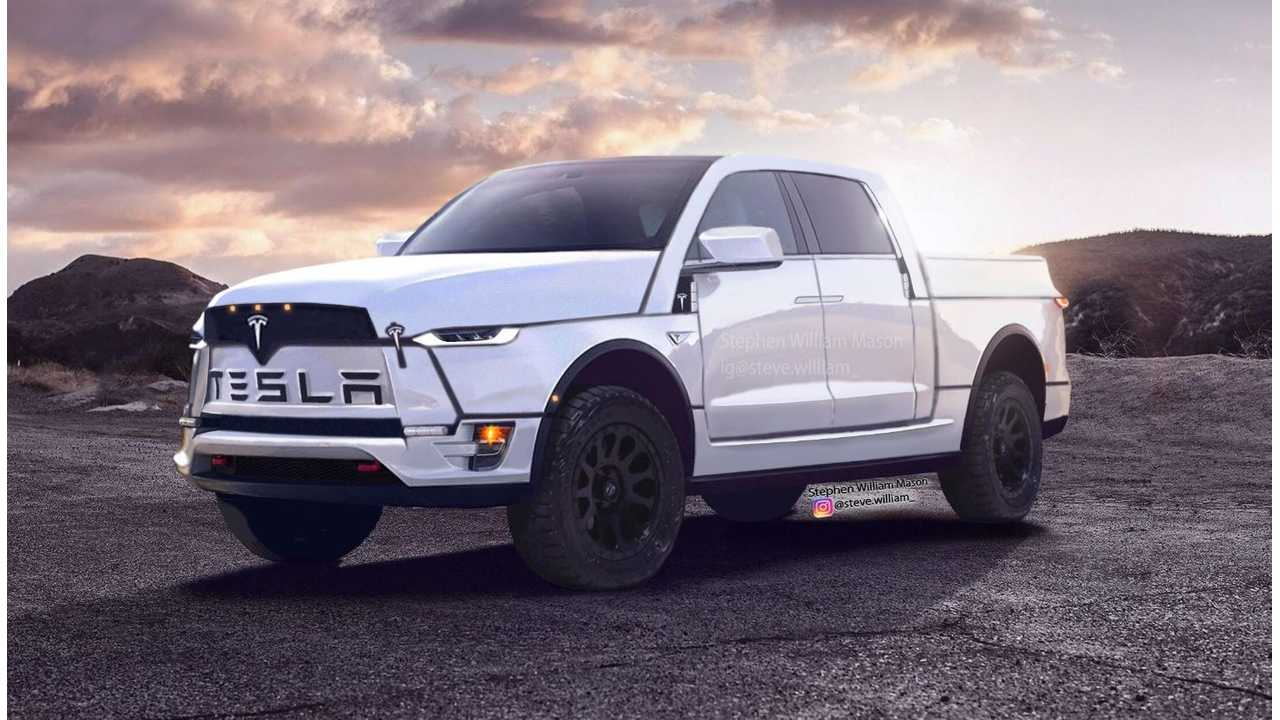Car: (161, 140, 1100, 599)
